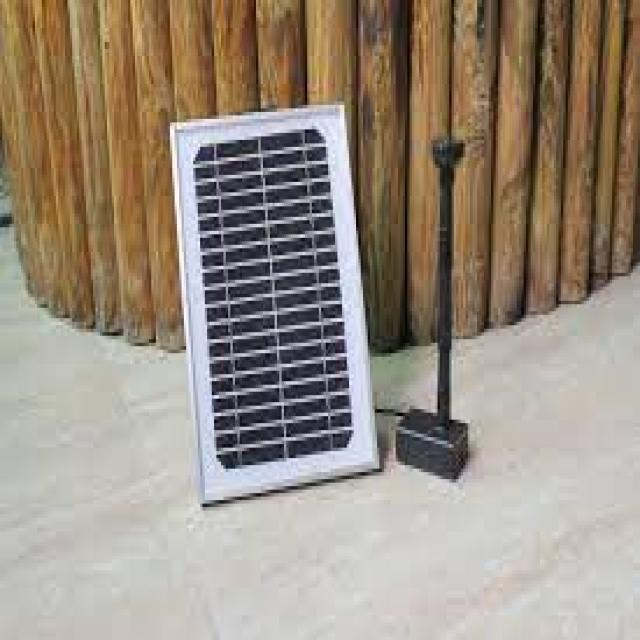no faulty: (181, 140, 357, 470)
